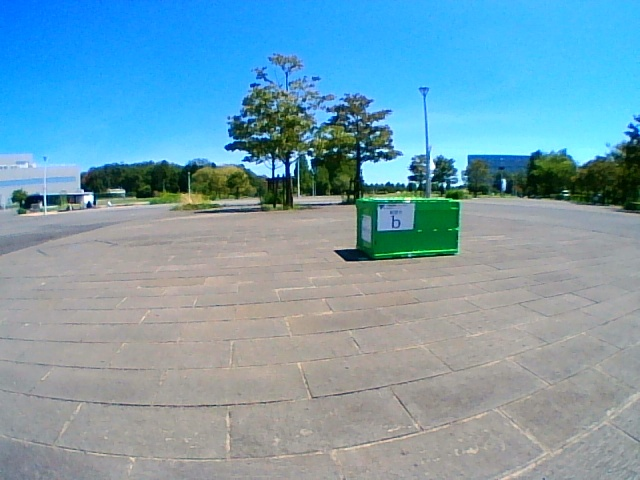green_box: (357, 198, 459, 258)
tag_b: (378, 203, 413, 229)
